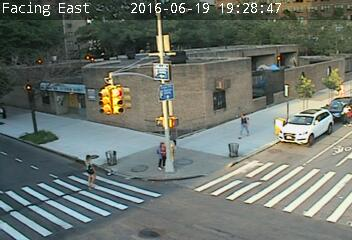neg: (18, 109, 45, 144), (100, 140, 122, 168), (221, 138, 242, 166), (268, 112, 289, 140), (48, 85, 66, 109), (249, 75, 264, 95)
pos: (74, 150, 106, 193), (150, 139, 174, 171), (233, 109, 256, 139), (336, 100, 351, 130)
